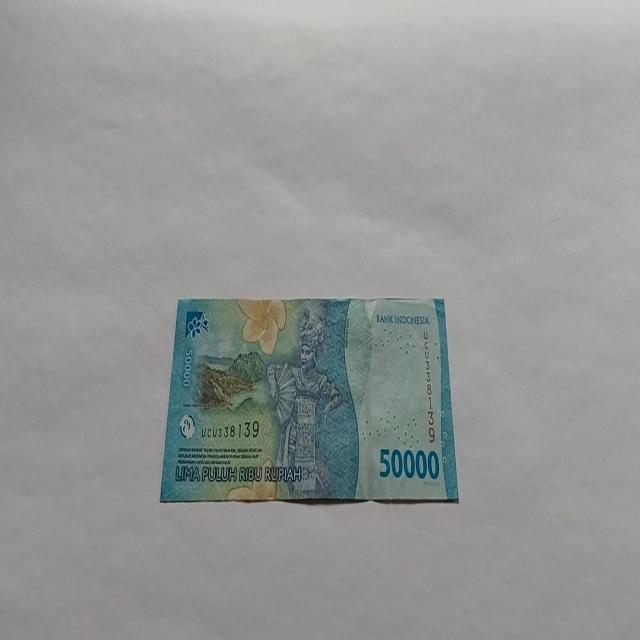lima puluh ribu rupiah: (158, 294, 460, 504)
